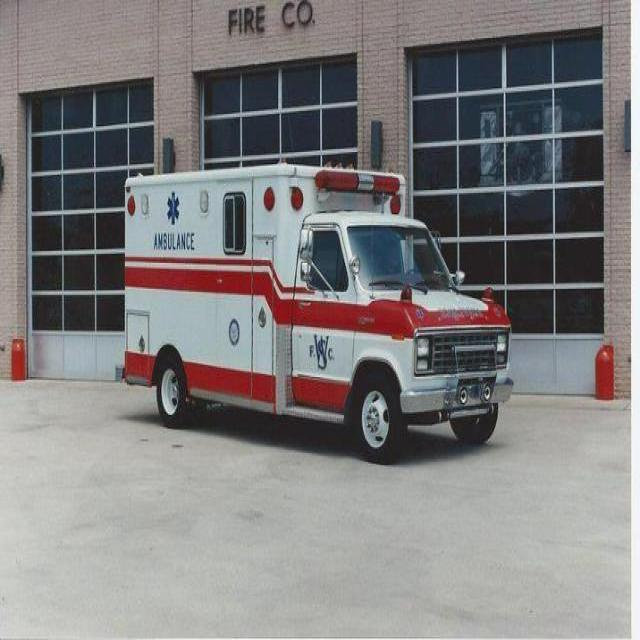emergency-vehicle: (115, 163, 512, 466)
